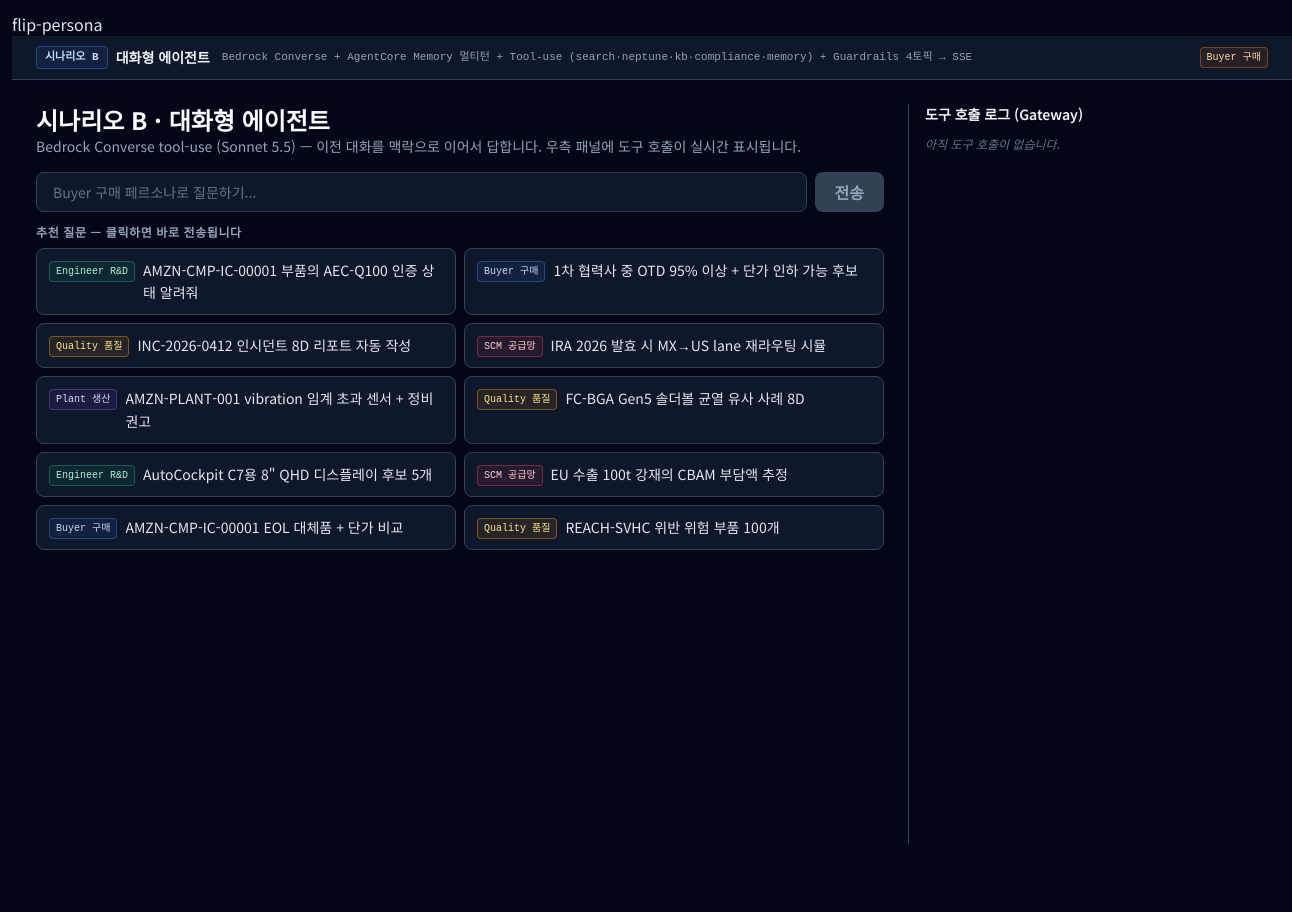
Test case: ChatPage › sample chip for another persona streams under THAT persona and keeps the turn
Click the button "Engineer R&D AMZN-CMP-IC-00001 부품의 AEC-Q100 인증 상태 알려줘": (246, 281) top-left (36, 248), bottom-right (456, 315)
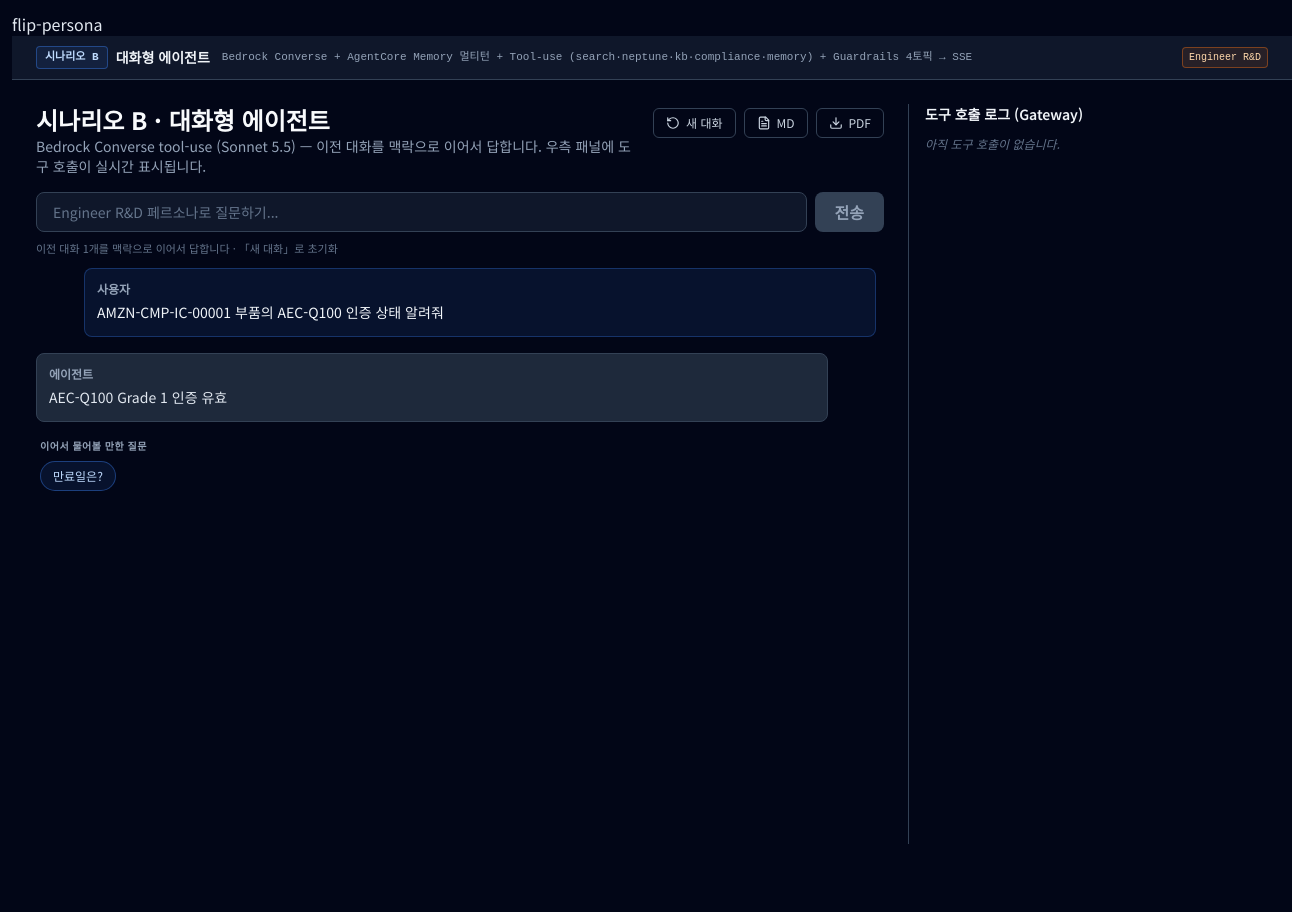
Expected: the text "AMZN-CMP-IC-00001 부품의 AEC-Q100 인증 상태 알려줘" is shown, top-left (97, 302), bottom-right (444, 322)
Expected: the text "AEC-Q100 Grade 1 인증 유효" is shown, top-left (49, 387), bottom-right (227, 407)
Expected: the button "만료일은?" is shown, top-left (40, 461), bottom-right (116, 491)
